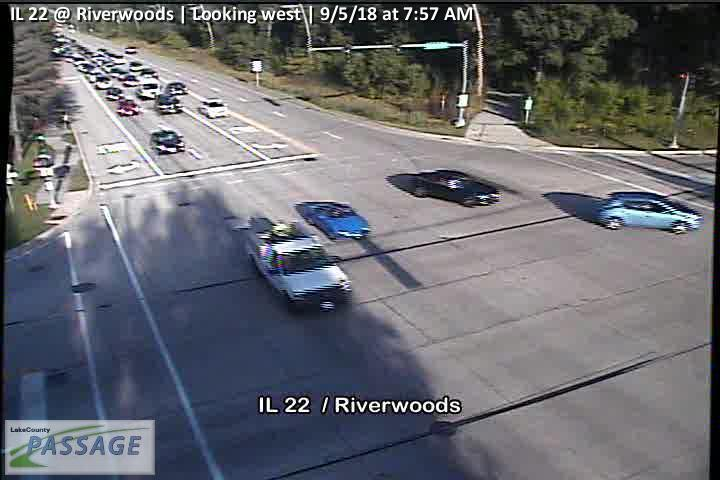SUV: (598, 191, 704, 235), (199, 98, 228, 118), (155, 94, 182, 115), (137, 78, 160, 100)
Sedan: (414, 170, 502, 208), (294, 202, 370, 241), (150, 130, 186, 155), (116, 98, 141, 118), (166, 83, 187, 96), (95, 75, 113, 90), (106, 88, 124, 100), (141, 69, 158, 81), (123, 75, 138, 87)
Truck: (246, 220, 352, 314)
